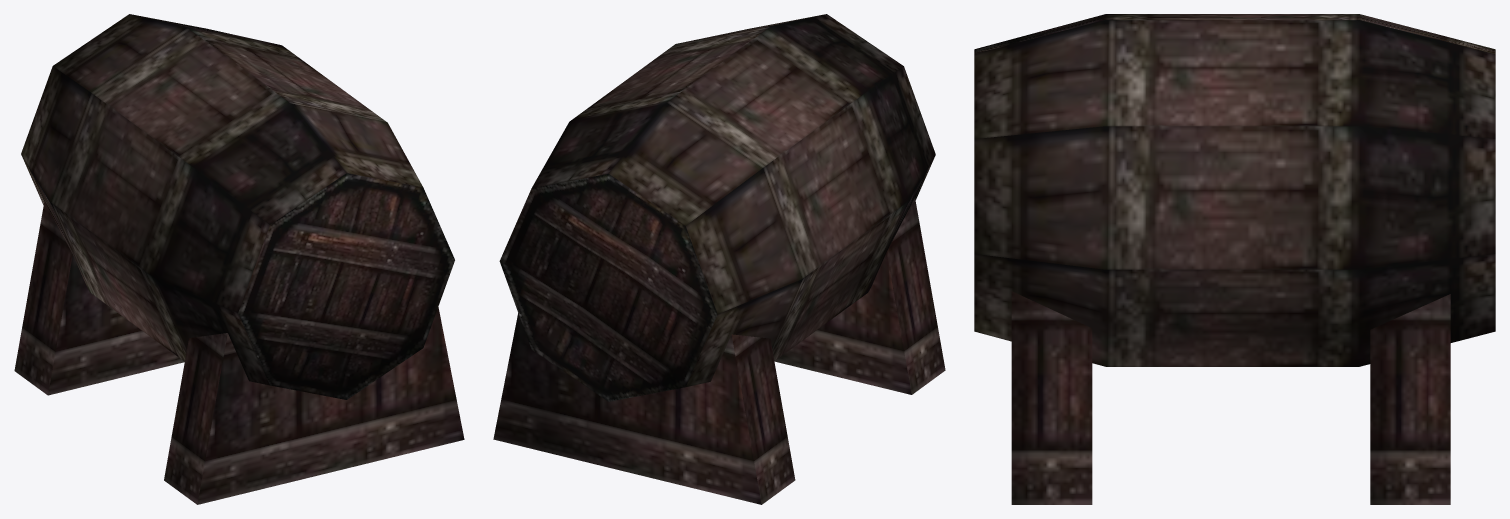
File: OC_BARREL_V2.glb
3 renders of one model, left to right at view 1: azimuth 30°, elevation 25°; view 2: azimuth 150°, elevation 25°; view 3: azimuth 270°, elevation 25°, orthographic. The views are drawn at different scales.
Visible parts, largest first — view 1: Mesh; view 2: Mesh; view 3: Mesh.
Boxes of the visible parts, x1=… form: Mesh: x1=14, y1=14, x2=464, y2=504; Mesh: x1=493, y1=14, x2=945, y2=504; Mesh: x1=974, y1=14, x2=1495, y2=504.
Bounding box in the file's own units: 0.8 × 0.9559 × 1.11.
Materials: 1 (1 with a texture image).
